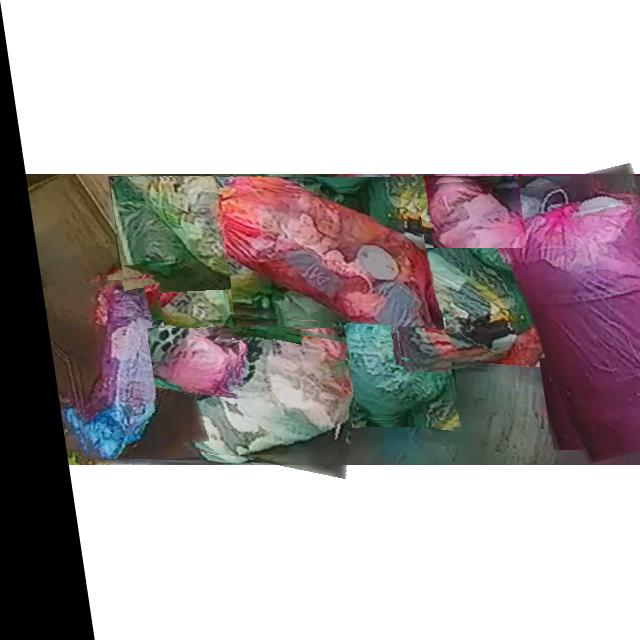other_trashbag: (491, 188, 640, 461), (212, 177, 423, 328), (173, 327, 341, 455), (379, 247, 528, 365), (130, 193, 250, 339), (67, 278, 153, 458), (105, 178, 221, 286), (326, 313, 436, 420), (414, 180, 519, 248), (141, 328, 219, 392)
